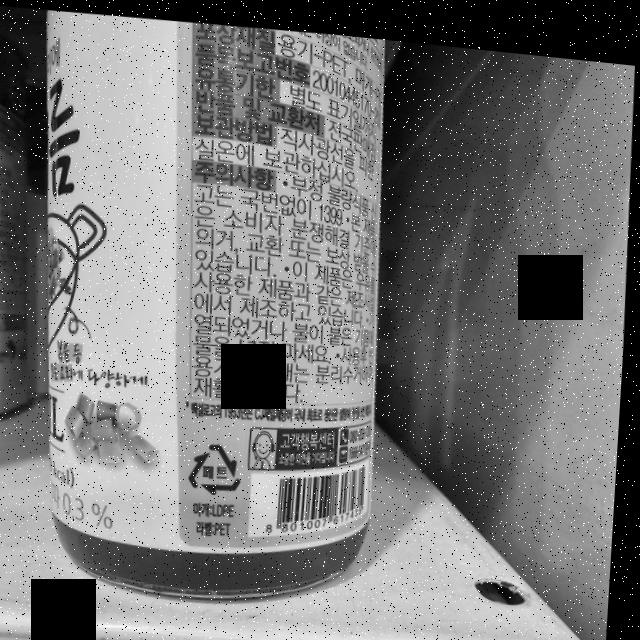PET: (188, 433, 251, 495)
